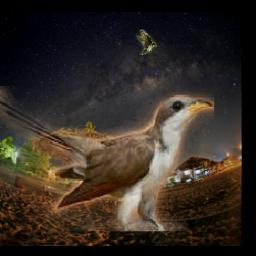Cuckoo: (0, 87, 213, 232)
Swallow: (135, 29, 156, 55)
